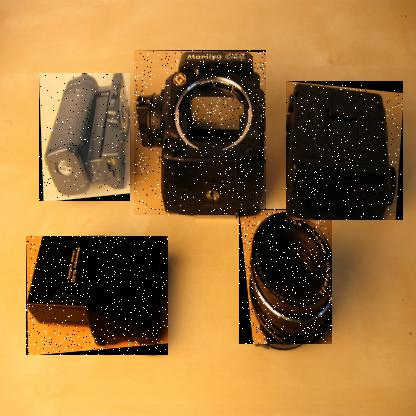Camera: (135, 51, 268, 217), (27, 237, 170, 357), (287, 82, 405, 222), (240, 210, 334, 346), (40, 74, 132, 203)
